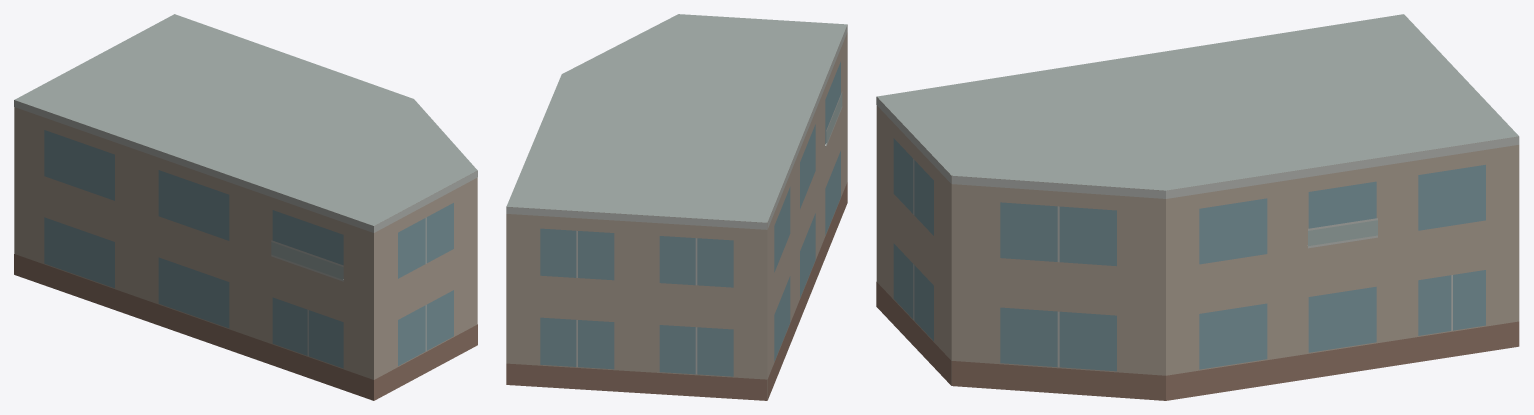
Rendered from survey-upis-32881927.glb.
3 views of the same model, side by side, from view 1: azimuth 30°, elevation 25°; view 2: azimuth 150°, elevation 25°; view 3: azimuth 270°, elevation 25° (orthographic). The views are drawn at different scales.
Parts seen in each view (by area): view 1: survey-upis-32881927.tmp; view 2: survey-upis-32881927.tmp; view 3: survey-upis-32881927.tmp.
Part boxes in pixels (x1=…): survey-upis-32881927.tmp: x1=14, y1=14, x2=477, y2=400; survey-upis-32881927.tmp: x1=506, y1=14, x2=847, y2=400; survey-upis-32881927.tmp: x1=876, y1=14, x2=1519, y2=400.
Bounding box in the file's own units: 11 × 6.1 × 16.91.
